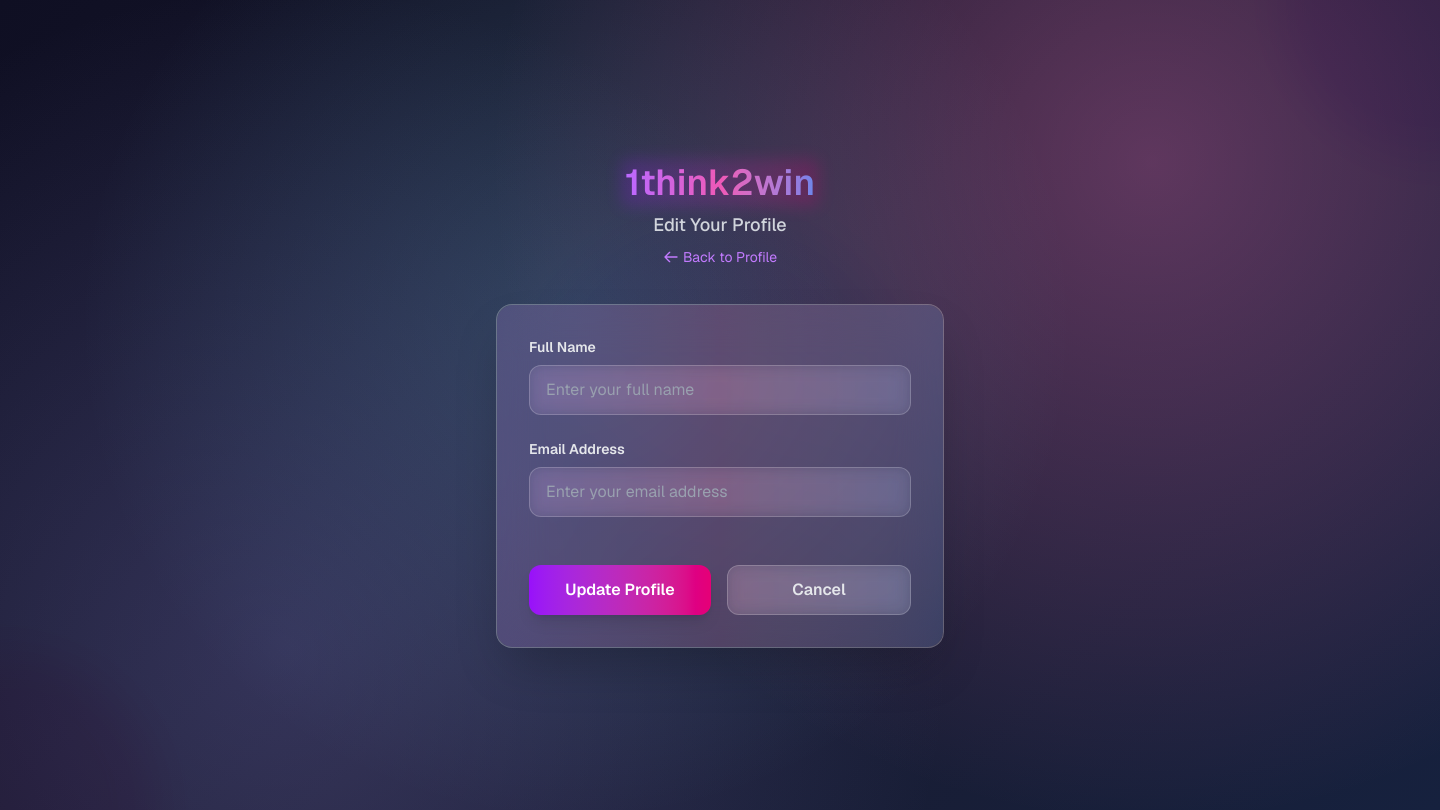
Test: edit profile page › reports save failures and copes with missing profile fields
The width and height of the screenshot is (1440, 810).
Type "Sara Khan" into the field labelled "Full Name" at (720, 390), box [529,364,911,414]
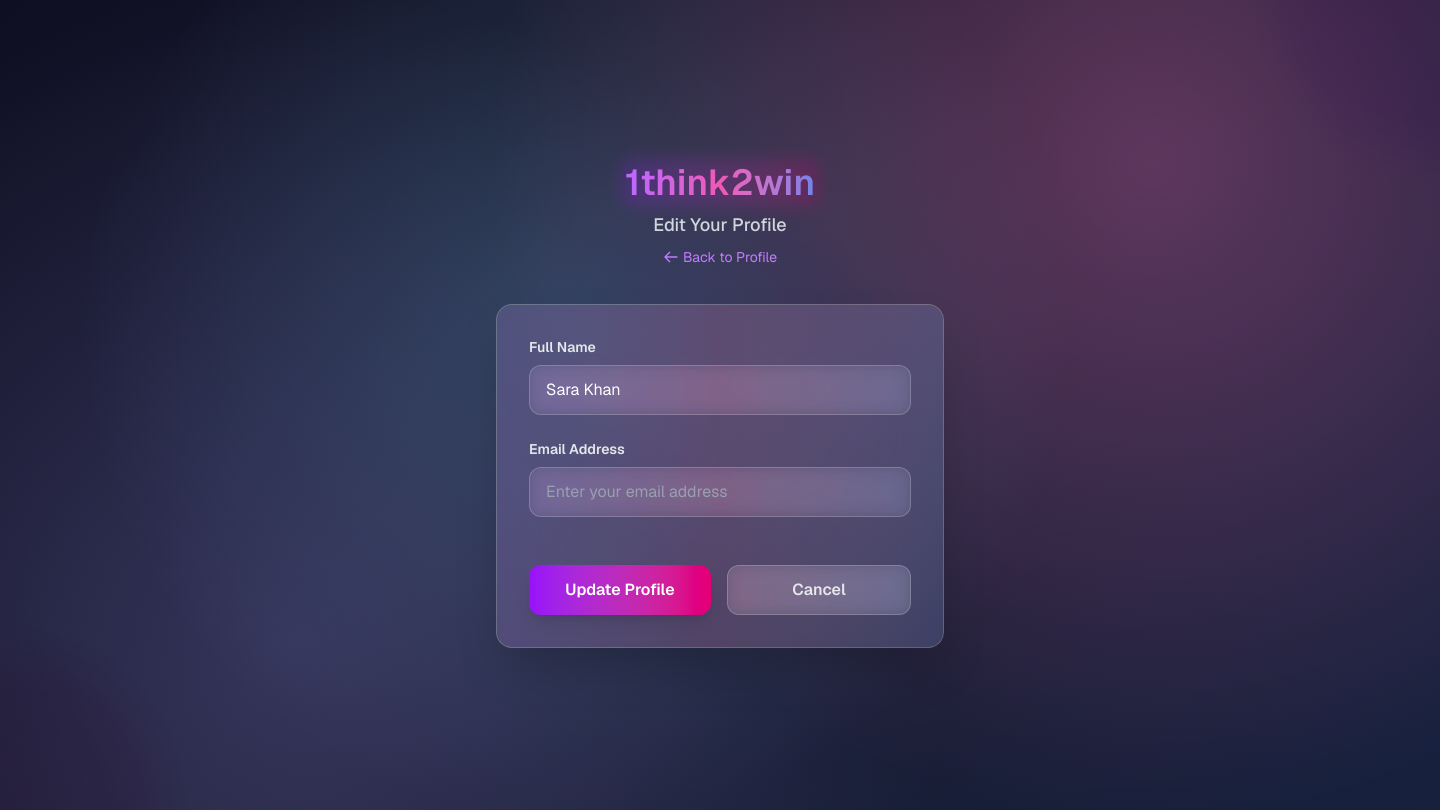
Type "sara@x.com" into the field labelled "Email Address" at (720, 492), box [529,466,911,516]
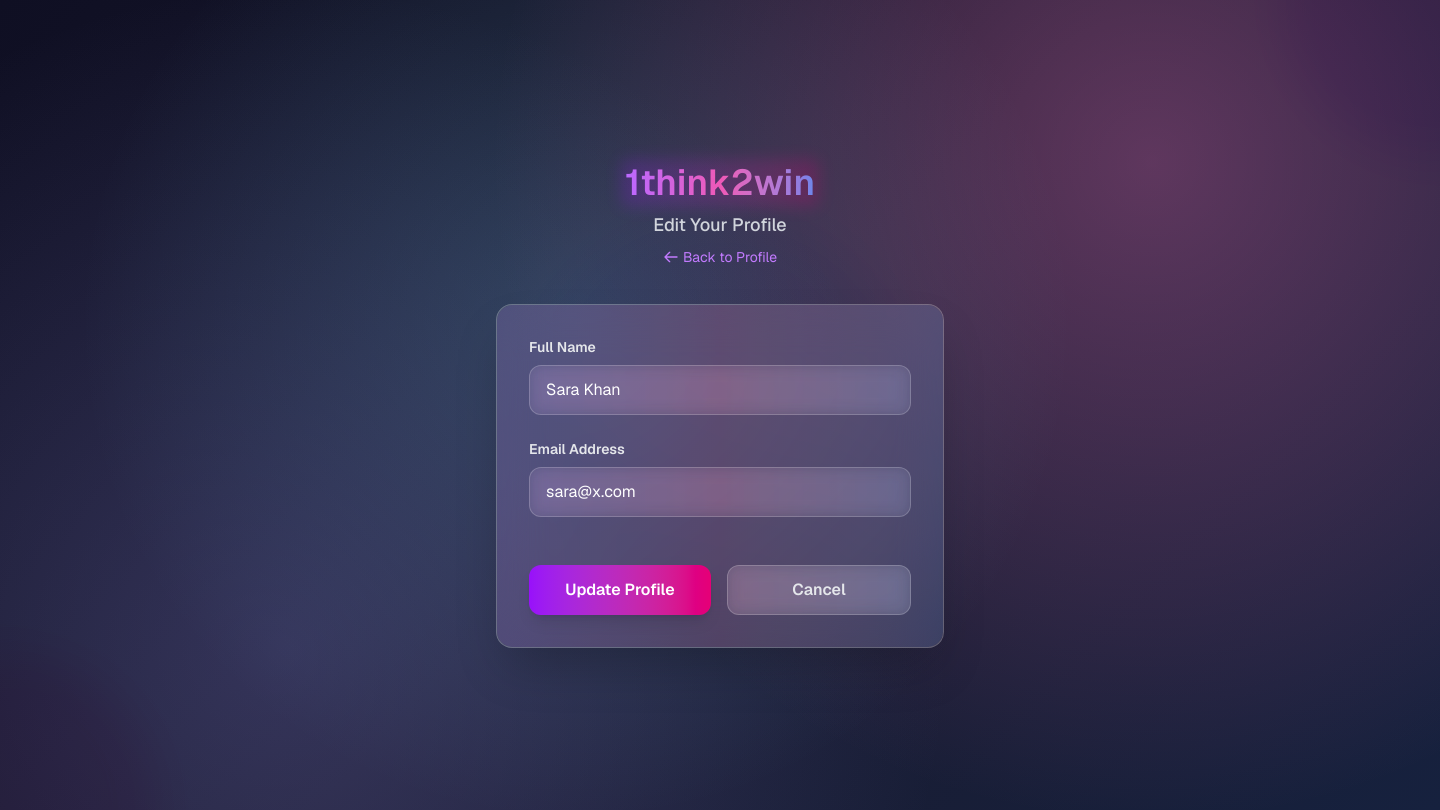
Submit the form "Update Profile", box [529,336,911,614]
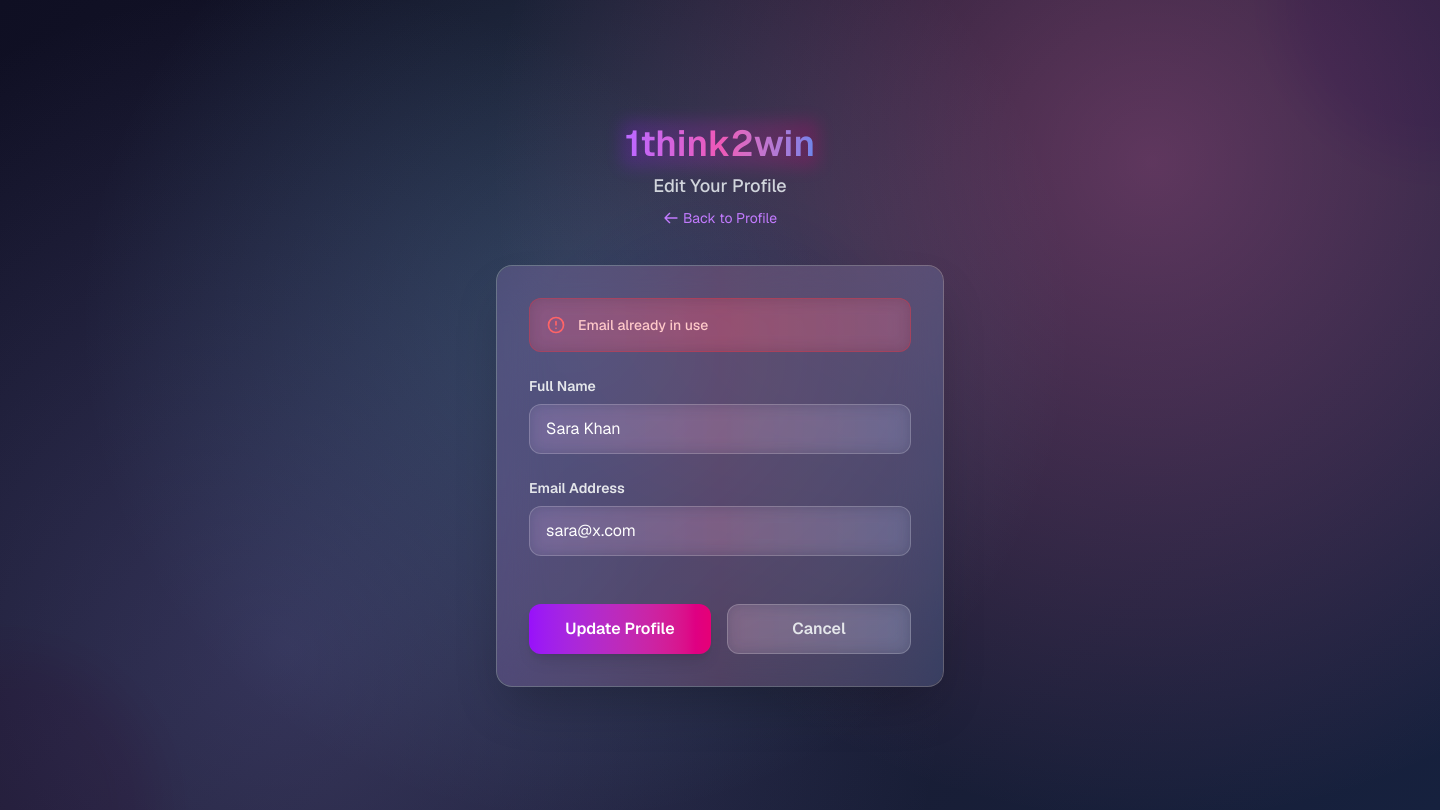
Now the text "Email already in use" is shown, box [578,314,708,334]
Submit the form "Update Profile", box [529,376,911,654]
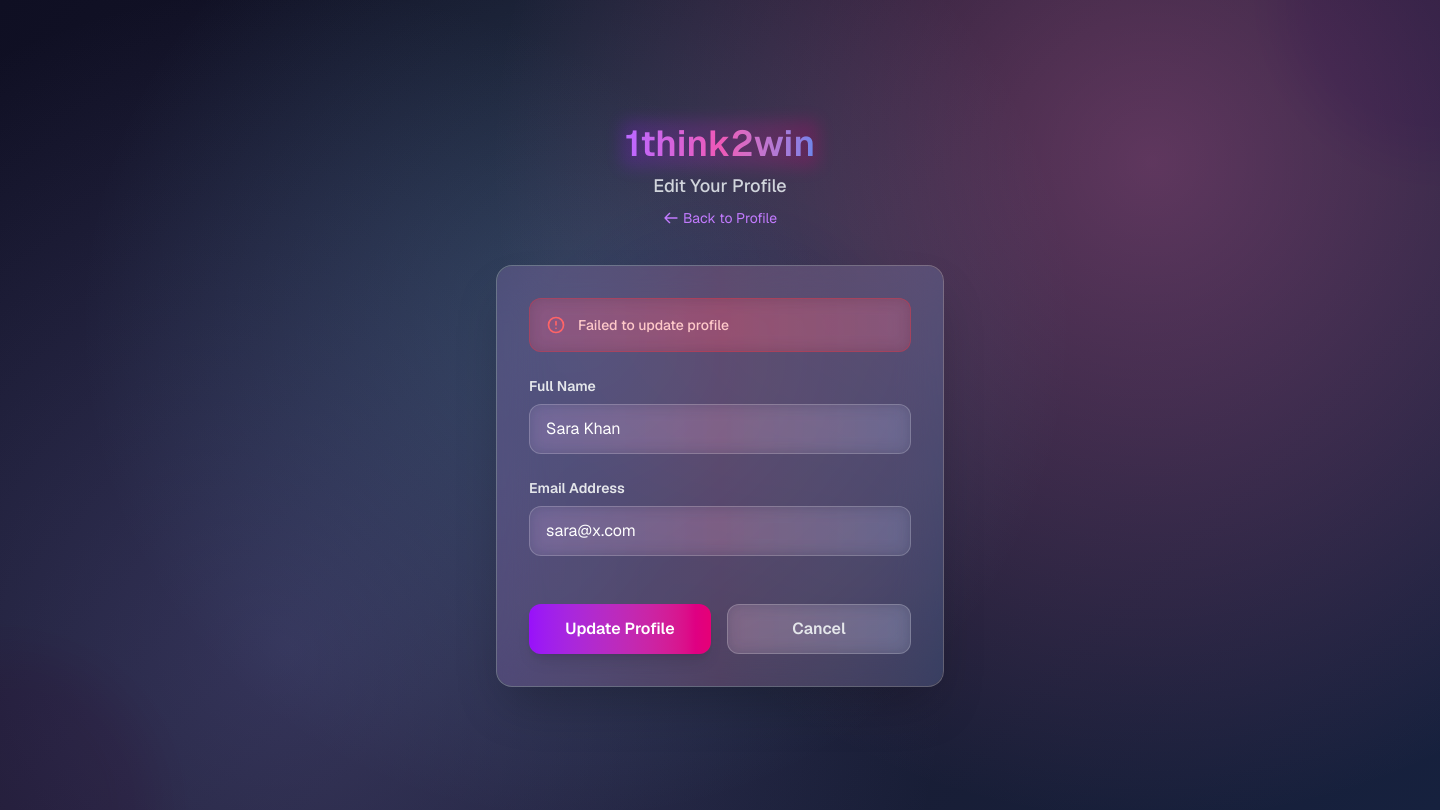
Now the text "Failed to update profile" is shown, box [578,314,729,334]
